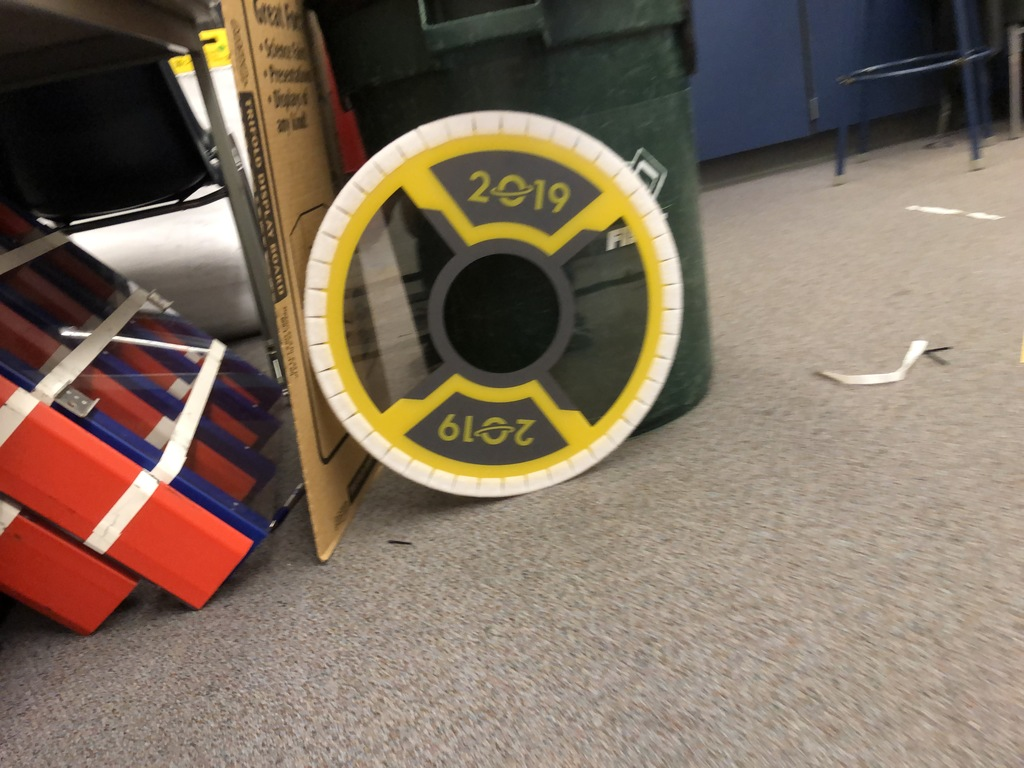hatch_panel: (293, 95, 673, 509)
